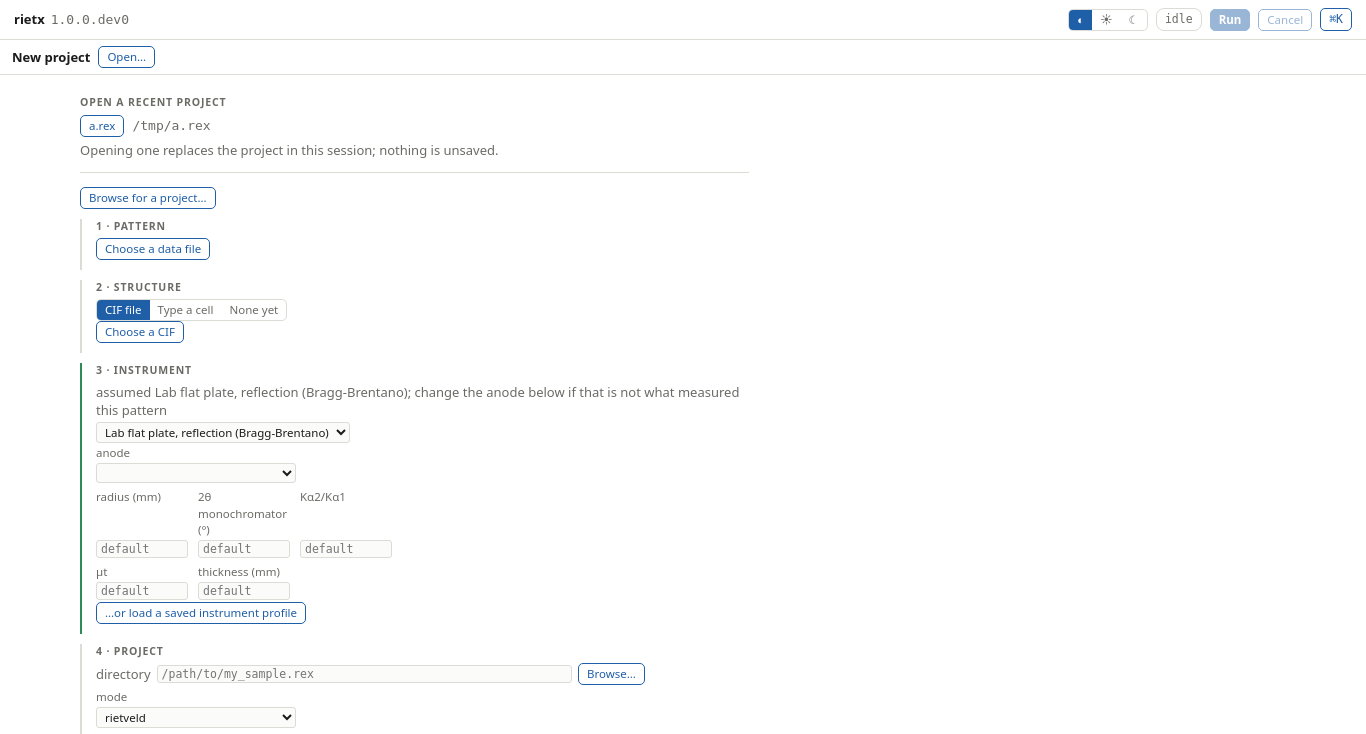
Test case: the shell › surfaces an open refusal verbatim rather than 'could not open'
This screenshot has width=1366, height=734.
Click the button "a.rex" at (102, 126), box x1=80 y1=115 x2=124 y2=137
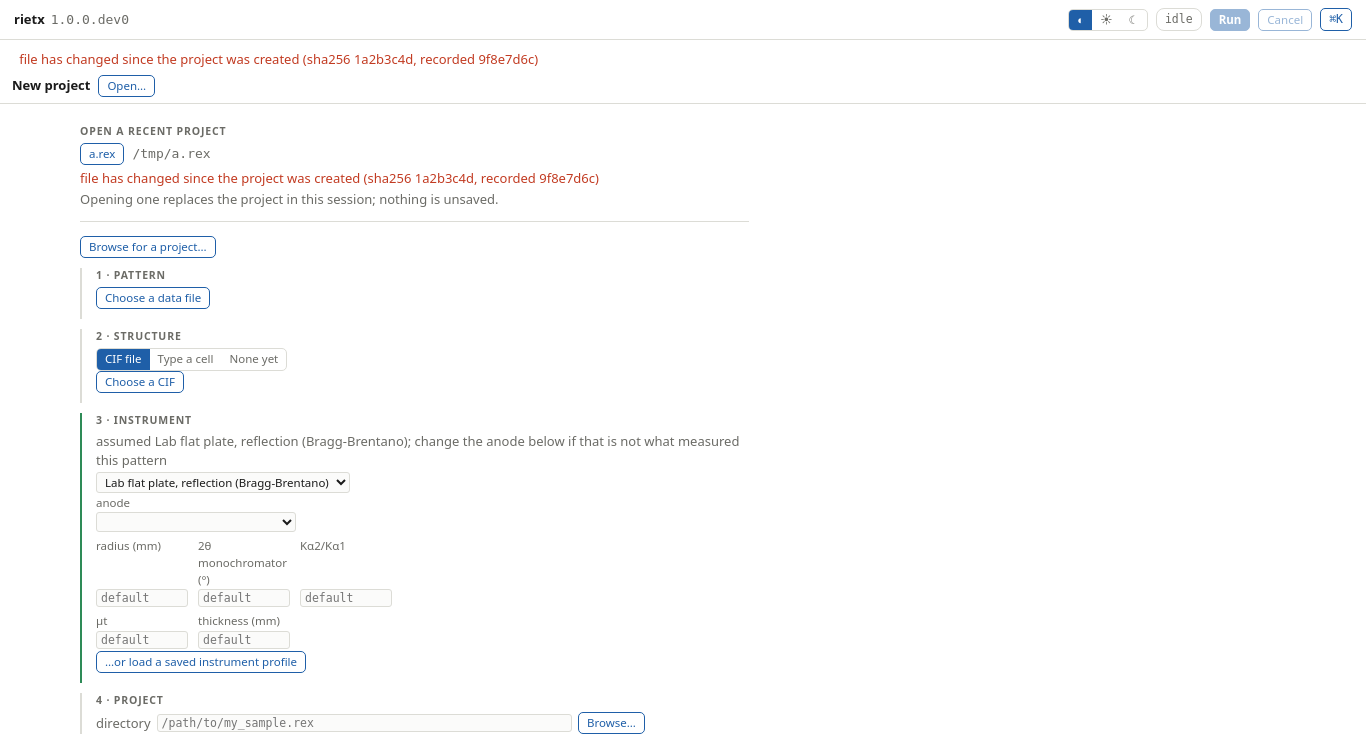
Check: the text "sha256" is shown, box x1=19 y1=50 x2=538 y2=68
